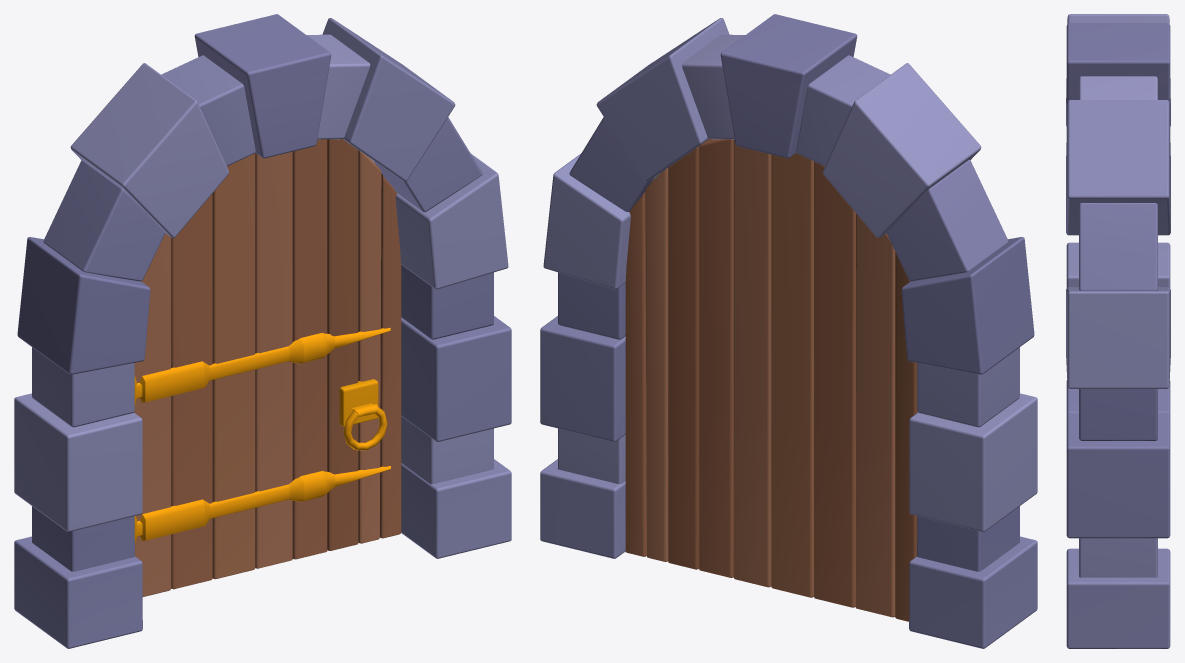
File: DOOR 1.fbx
3 renders of one model, left to right at view 1: azimuth 30°, elevation 25°; view 2: azimuth 150°, elevation 25°; view 3: azimuth 270°, elevation 25°, orthographic. The views are drawn at different scales.
Parts seen in each view (by area): view 1: Ark, Door; view 2: Ark, Door; view 3: Ark.
Boxes of the visible parts, x1,y1,x2,y2 form: Ark: [14, 14, 511, 648]; Door: [134, 139, 401, 596]; Ark: [540, 14, 1037, 648]; Door: [625, 139, 917, 621]; Ark: [1066, 14, 1170, 648].
Size of the model in its own units: 12.39 by 14.19 by 2.67.
